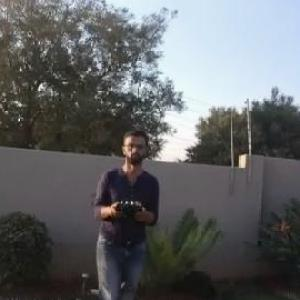follow: (88, 122, 164, 299)
